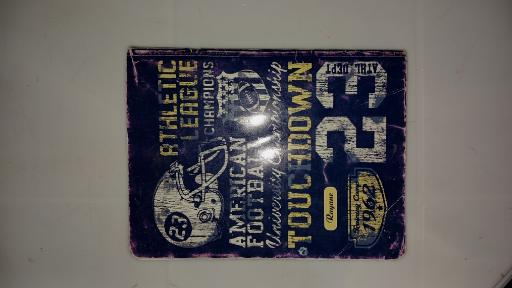notebook: (127, 46, 406, 258)
